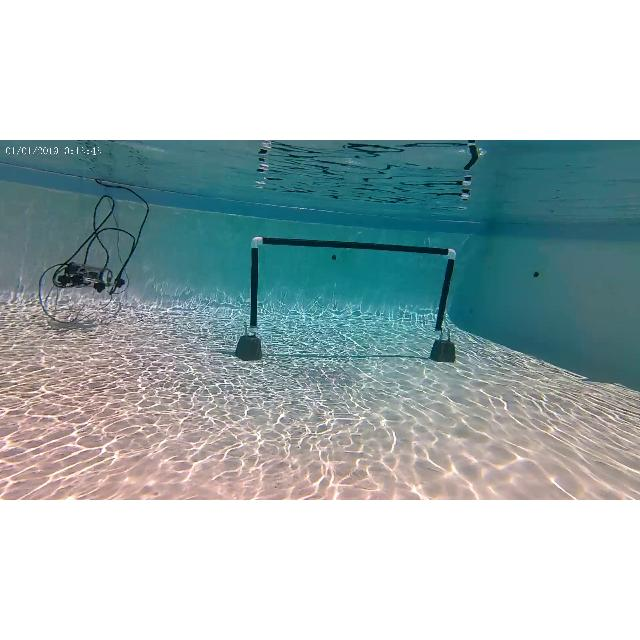prequal gate: (250, 237, 456, 335)
prequal gate leg l: (239, 235, 263, 361)
prequal gate leg r: (434, 248, 456, 364)
